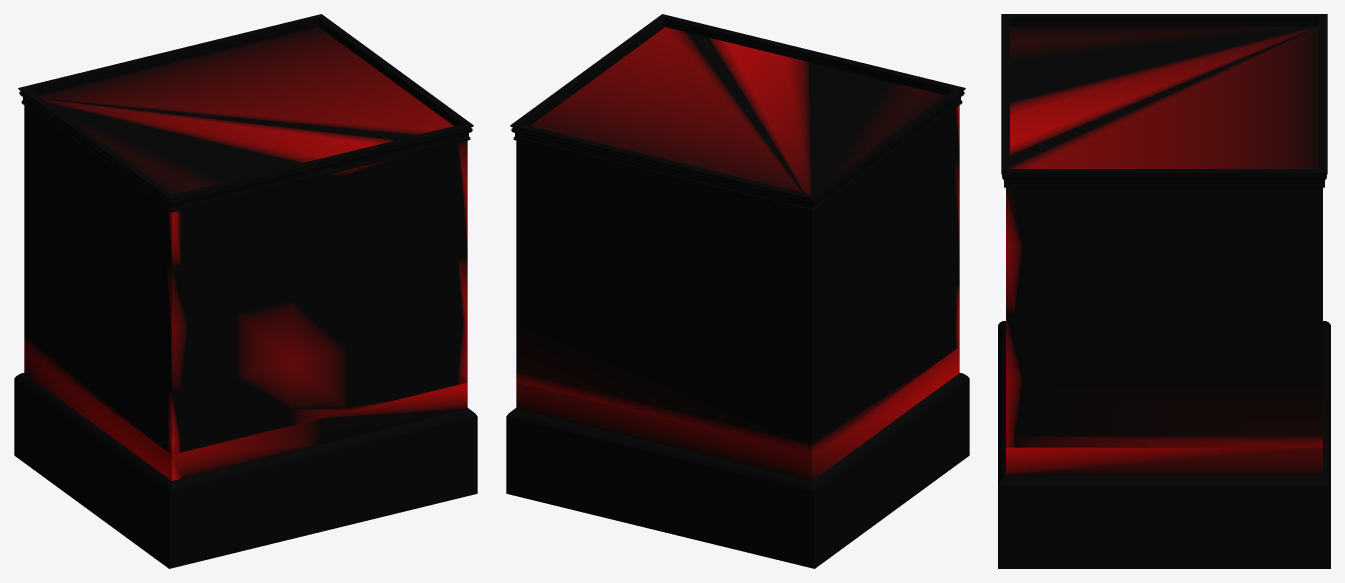
Rendered from House6.fbx.
The picture shows the model from 3 angles, left to right: view 1: azimuth 30°, elevation 25°; view 2: azimuth 150°, elevation 25°; view 3: azimuth 270°, elevation 25°; orthographic projection. The views are drawn at different scales.
Parts seen in each view (by area): view 1: House6; view 2: House6; view 3: House6.
Part boxes in pixels (left/top/right/bottom): House6: left=14, top=14, right=477, bottom=568; House6: left=506, top=14, right=969, bottom=568; House6: left=998, top=14, right=1330, bottom=568.
Bounding box in the file's own units: 965 × 1100 × 840.
